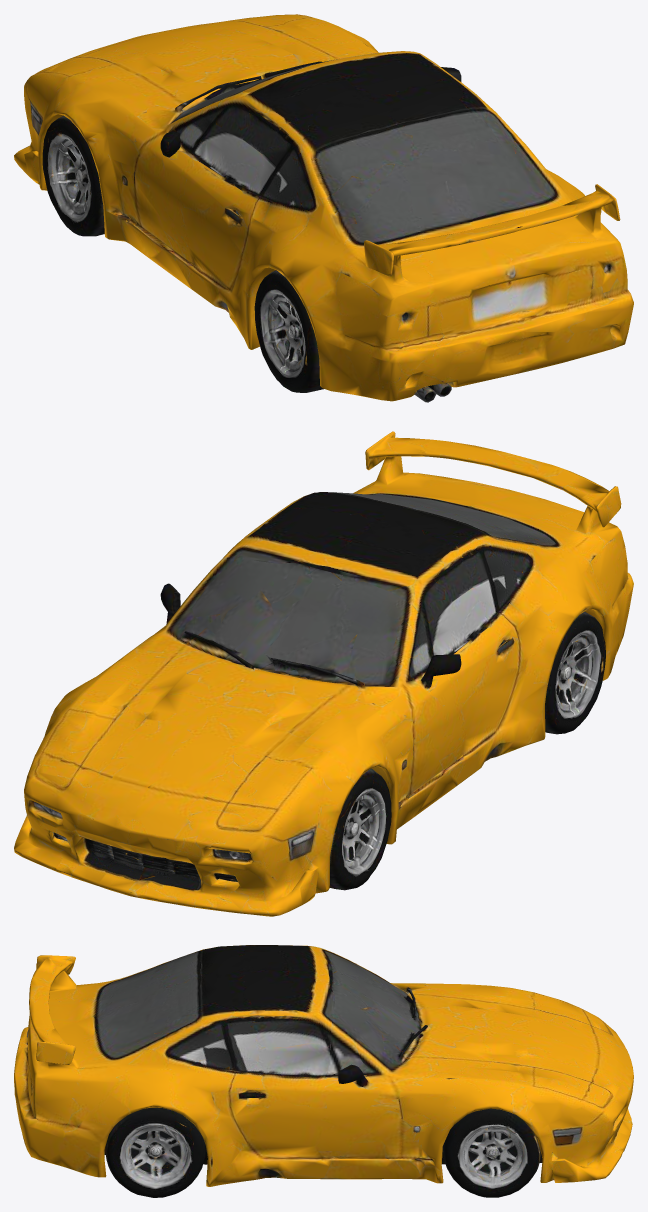
Rendered from teleopVehCoupe.7f3a1b6a.glb.
3 views of the same model, one above another, from view 1: azimuth 30°, elevation 25°; view 2: azimuth 150°, elevation 25°; view 3: azimuth 270°, elevation 25° (orthographic). The views are drawn at different scales.
Bounding box in the file's own units: 0.8532 × 0.5828 × 1.9.
Materials: 1 (1 with a texture image).
